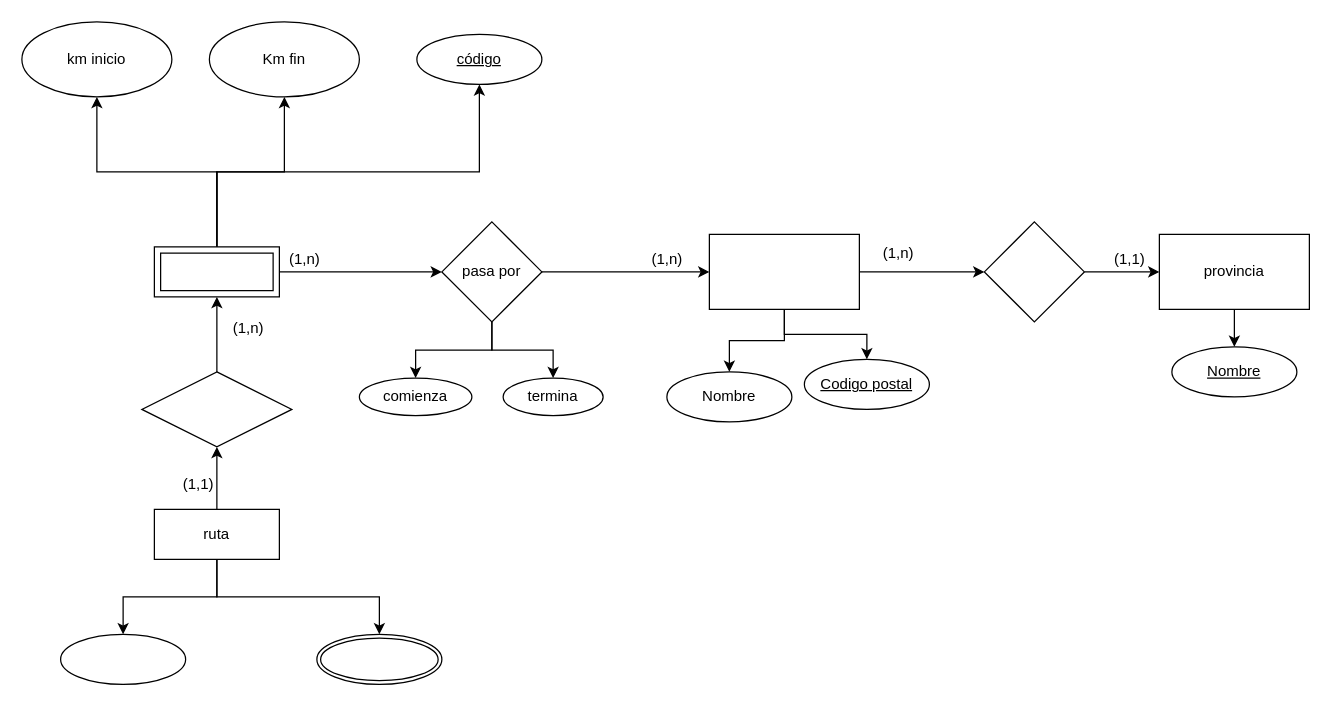
Image size: 1331x706. Some labels were removed from this diagram. Here are the shapes that lost their labels. From the top down, the box of each, then its label:
(153, 246, 279, 297): tramo
(708, 233, 859, 309): ciudades
(983, 221, 1084, 322): Pertenece
(141, 371, 292, 447): contiene
(59, 633, 186, 684): codigo
(316, 633, 442, 684): categoria
